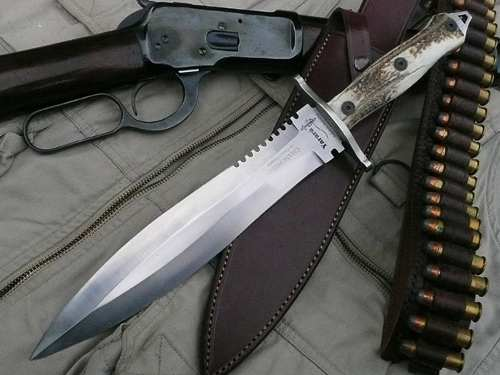knife: (24, 103, 336, 364)
